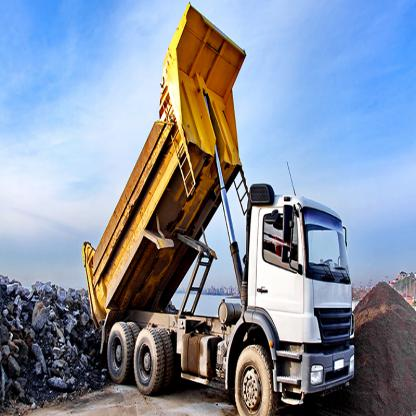Wheel hub: (243, 367, 262, 412), (138, 344, 153, 385), (113, 338, 123, 375)
